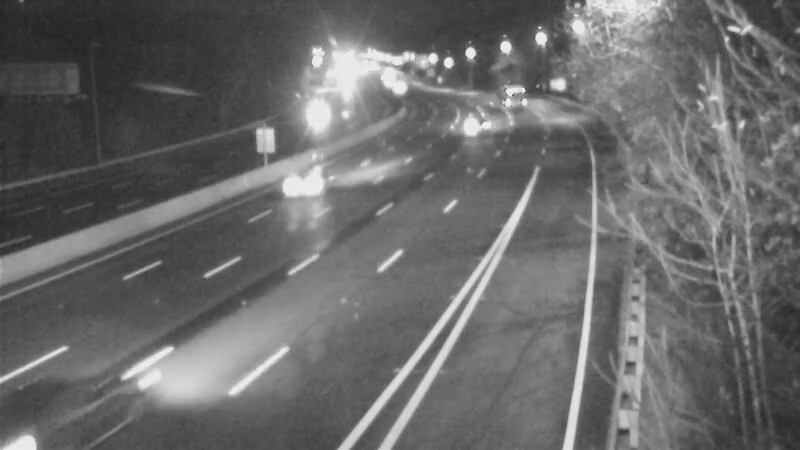vehicle: (2, 346, 112, 450), (282, 139, 362, 219), (488, 75, 538, 125), (456, 100, 506, 150), (288, 89, 338, 139)
